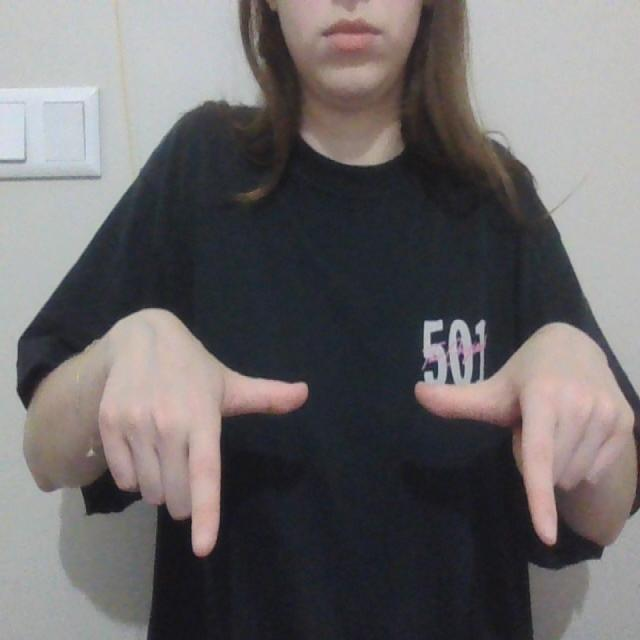Nerede: (174, 353, 560, 588)
